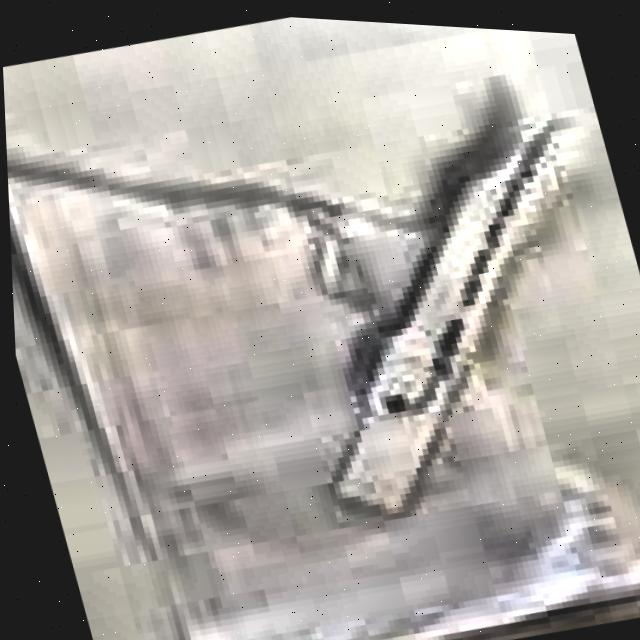paper: (6, 105, 640, 640)
